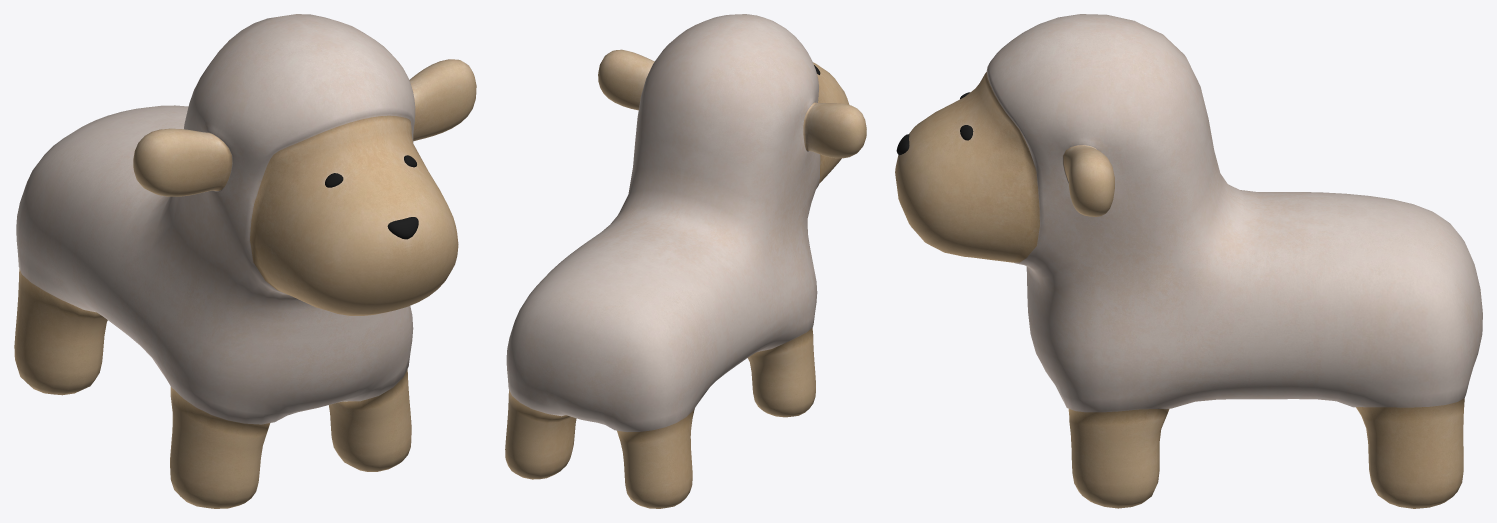
File: 4-sheep.glb
3 views of the same model, side by side, from view 1: azimuth 30°, elevation 25°; view 2: azimuth 150°, elevation 25°; view 3: azimuth 270°, elevation 25° (orthographic). The views are drawn at different scales.
Parts seen in each view (by area): view 1: Cube.010, Cube.011; view 2: Cube.010; view 3: Cube.010.
Part boxes in pixels (x1,y1,x2,y2): Cube.010: [14, 14, 476, 508]; Cube.011: [387, 217, 418, 239]; Cube.010: [505, 14, 866, 508]; Cube.010: [895, 14, 1482, 508].
Bounding box in the file's own units: 0.8499 × 1.12 × 1.36.
Materials: 1 (1 with a texture image).
